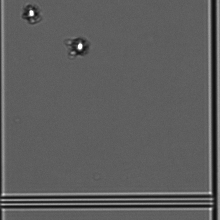Living Cell: (67, 34, 90, 57), (21, 4, 43, 24)
